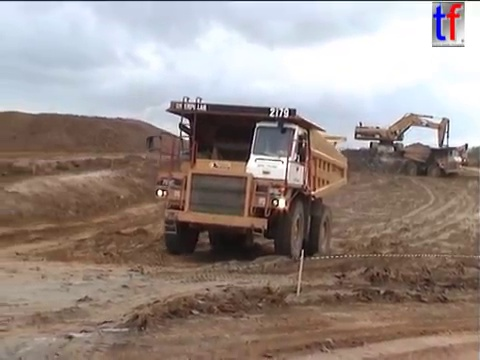excavator: (352, 110, 451, 160), (435, 142, 470, 168)
truck: (143, 94, 350, 261), (237, 132, 348, 198), (396, 145, 463, 181)
